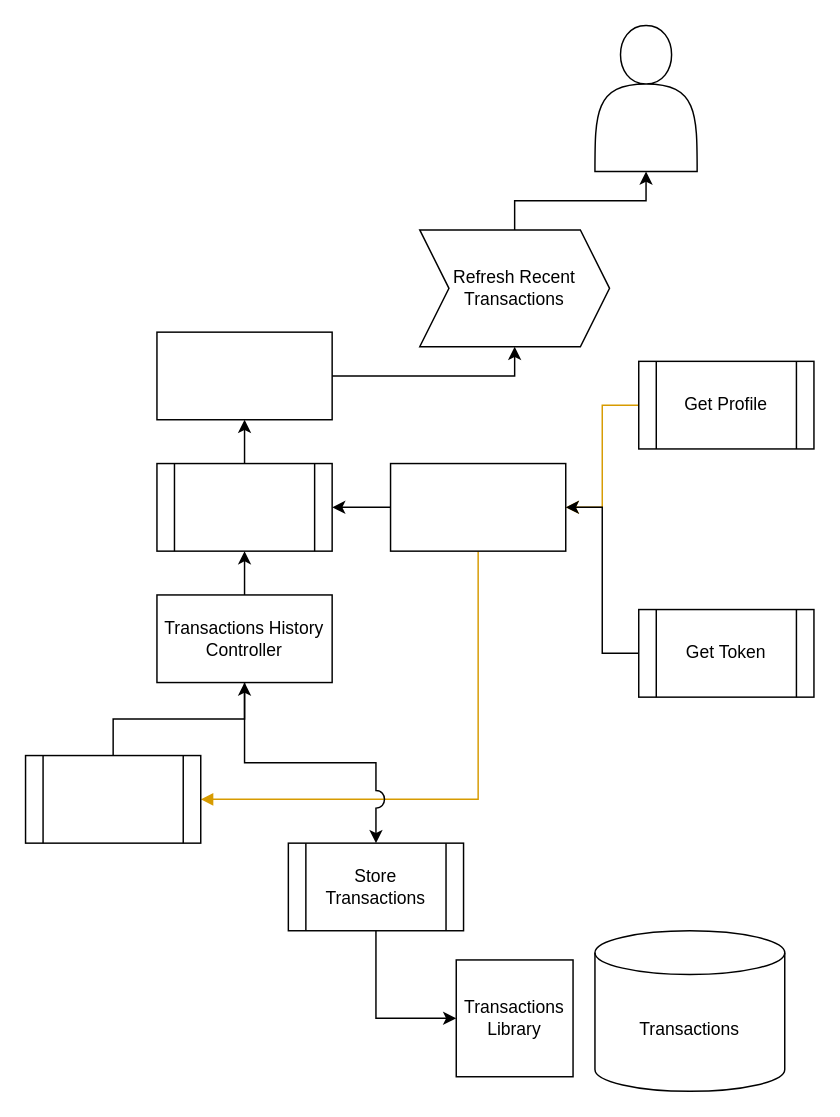
This 840x1117 diagram has some shape labels left out. The centre of each missing label's shape, as x and y in pixels:
Create Transactions: the point at 243,506
Get Transactions: the point at 112,798
Plaid Controller: the point at 243,375
User Management Controller: the point at 477,506
